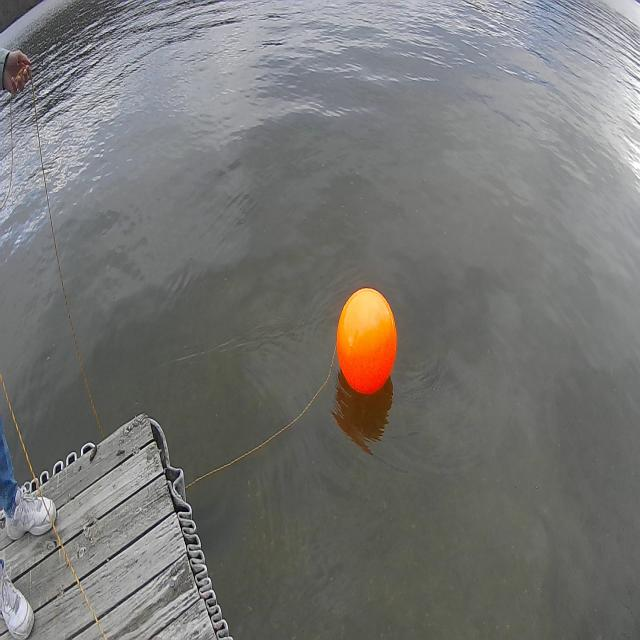Buoy: (331, 280, 401, 399)
